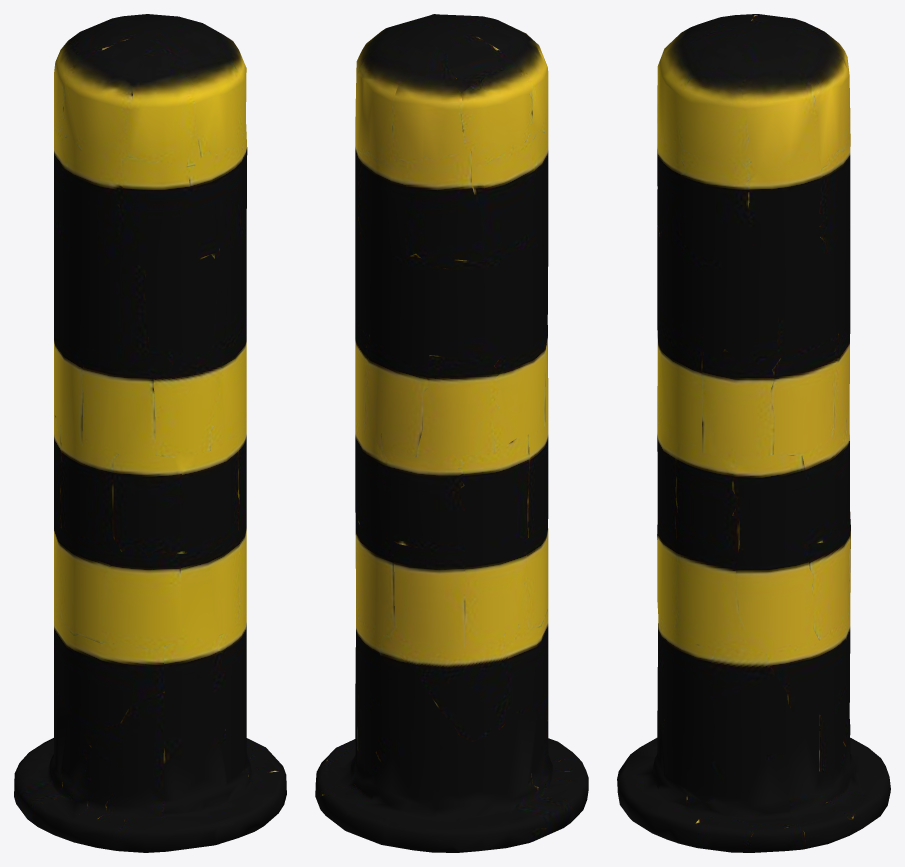
The model's file is pole.glb.
3 views of the same model, side by side, from view 1: azimuth 30°, elevation 25°; view 2: azimuth 150°, elevation 25°; view 3: azimuth 270°, elevation 25° (orthographic).
Bounding box in the file's own units: 0.614 × 1.9 × 0.6144.
1 material, 1 textured.
